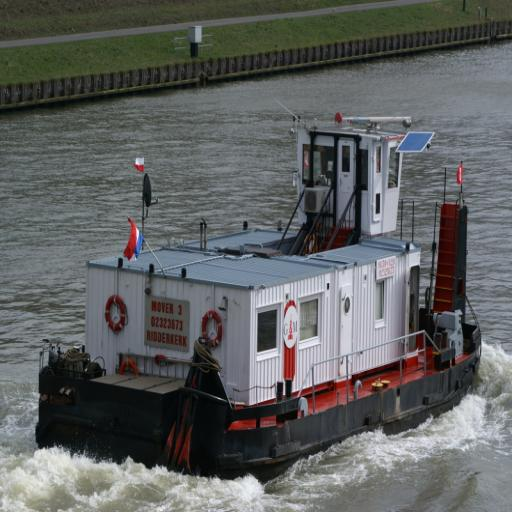tugboat: (32, 109, 487, 489)
